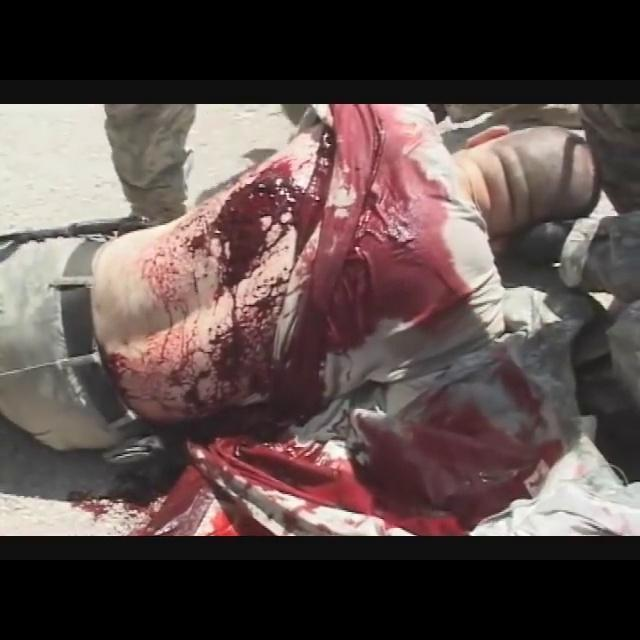blood: (111, 105, 471, 420), (54, 342, 571, 536), (207, 437, 466, 536)
